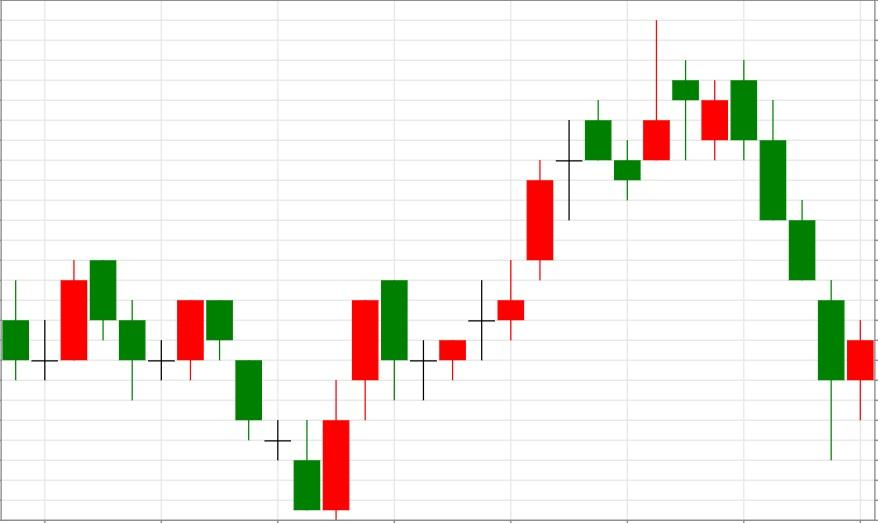bullish_engulfing_rise: (176, 298, 350, 520)
three_black_crows_fall: (613, 19, 815, 280)
